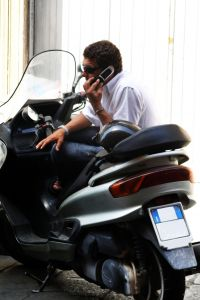phone: (91, 70, 117, 94)
